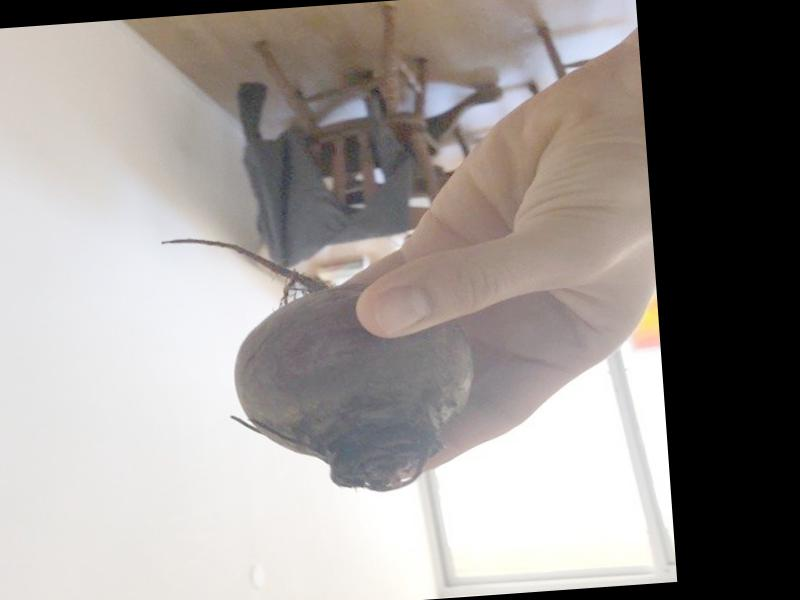Beet: (158, 219, 480, 506)
